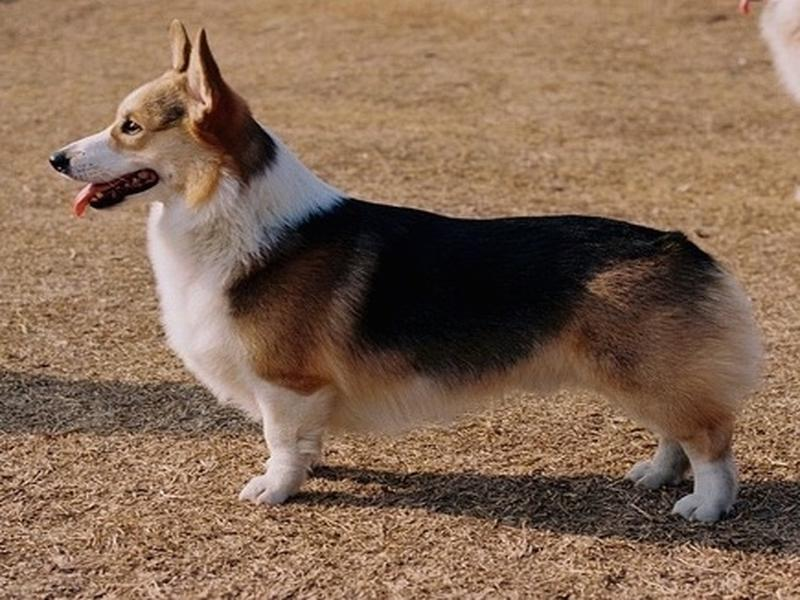corgi: (48, 20, 229, 221)
